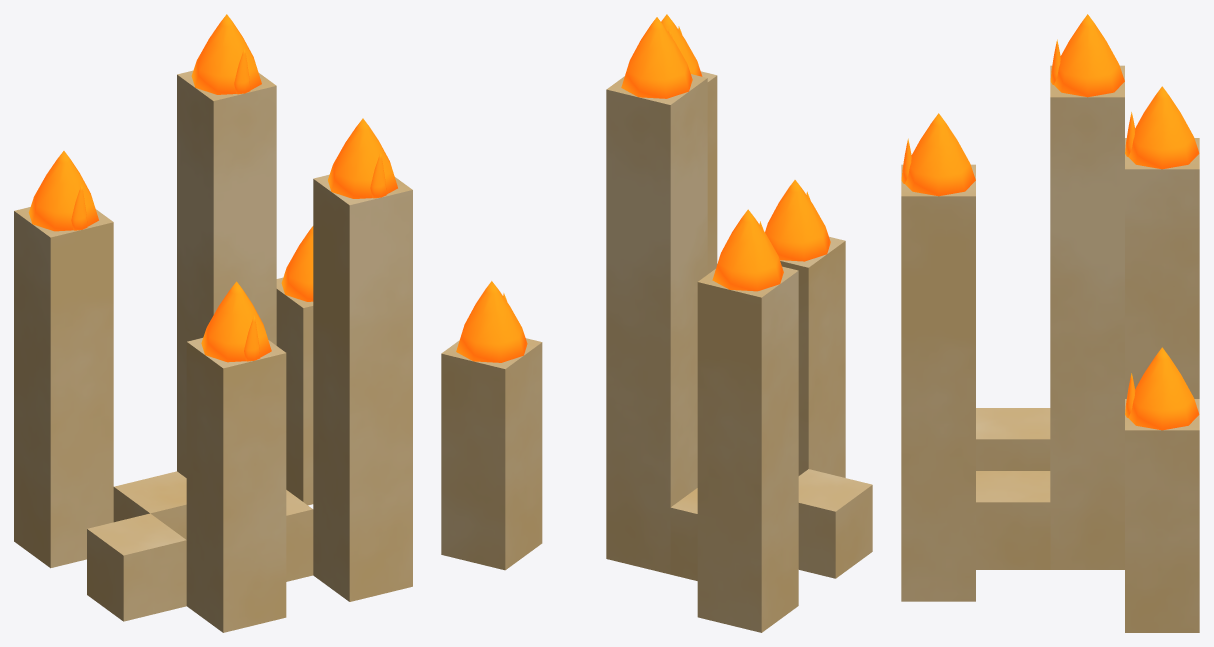
The model's file is candles.glb.
The picture shows the model from 3 angles, left to right: view 1: azimuth 30°, elevation 25°; view 2: azimuth 150°, elevation 25°; view 3: azimuth 270°, elevation 25°; orthographic projection. The views are drawn at different scales.
Visible parts, largest first — view 1: crypt_candles; view 2: crypt_candles; view 3: crypt_candles.
Part boxes in pixels (bbox=[...]): crypt_candles: bbox=[14, 14, 412, 632]; crypt_candles: bbox=[441, 14, 872, 632]; crypt_candles: bbox=[901, 14, 1199, 632].
Size of the model in its own units: 0.3125 by 0.5 by 0.25.
Materials: 2 (1 with a texture image).
